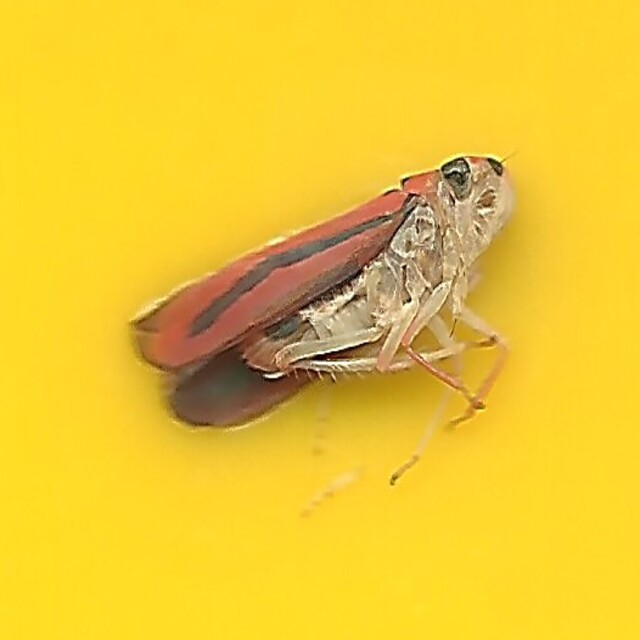Hemiptera: (122, 149, 518, 491)
